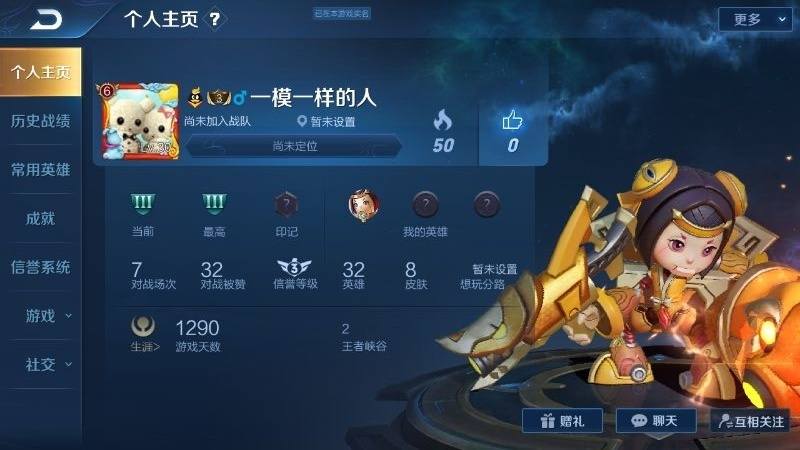return: (20, 2, 79, 38)
tag: (1, 341, 76, 383), (3, 99, 79, 140), (1, 290, 77, 331), (2, 251, 77, 281), (4, 153, 74, 184), (8, 204, 73, 235)
